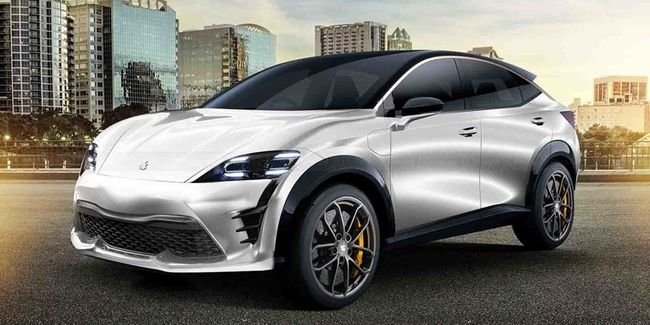mobil: (65, 34, 595, 300)
